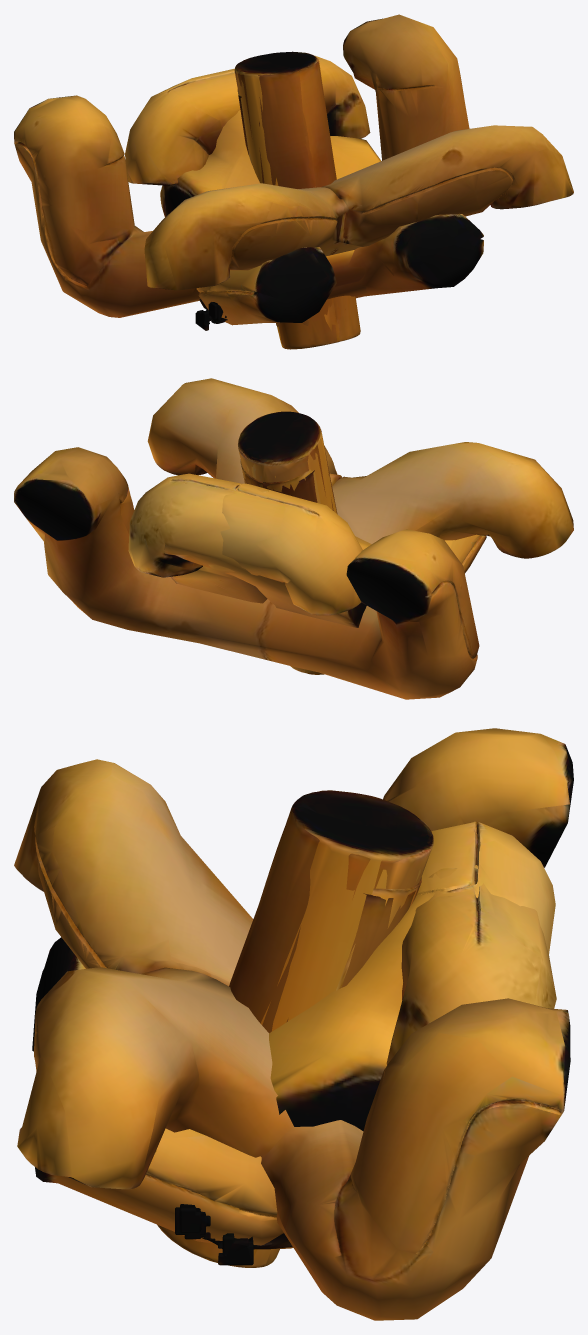
File: NMK.2016.0135.002_143736_optimized.glb
3 views of the same model, one above another, from view 1: azimuth 30°, elevation 25°; view 2: azimuth 150°, elevation 25°; view 3: azimuth 270°, elevation 25° (orthographic). The views are drawn at different scales.
Visible parts, largest first — view 1: root.0.0, root.0.1, root.0.2, root.1, root.2; view 2: root.0.0, root.0.1, root.0.2, root.2, root.1, root.3, root.4; view 3: root.0.0, root.0.2, root.0.1, root.2, root.1, root.4, root.3.
Boxes of the visible parts, x1=… form: root.0.0: x1=14, y1=14, x2=573, y2=317; root.0.1: x1=125, y1=68, x2=380, y2=325; root.0.2: x1=160, y1=55, x2=483, y2=330; root.1: x1=234, y1=51, x2=345, y2=349; root.2: x1=235, y1=55, x2=360, y2=347; root.0.0: x1=14, y1=378, x2=573, y2=699; root.0.1: x1=171, y1=483, x2=486, y2=615; root.0.2: x1=128, y1=473, x2=371, y2=627; root.2: x1=238, y1=413, x2=336, y2=672; root.1: x1=238, y1=411, x2=337, y2=674; root.3: x1=240, y1=459, x2=317, y2=502; root.4: x1=242, y1=469, x2=320, y2=503; root.0.0: x1=14, y1=728, x2=573, y2=1320; root.0.2: x1=35, y1=865, x2=556, y2=1245; root.0.1: x1=32, y1=821, x2=555, y2=1265; root.2: x1=157, y1=790, x2=433, y2=1267; root.1: x1=229, y1=802, x2=433, y2=1266; root.4: x1=341, y1=877, x2=421, y2=987; root.3: x1=336, y1=878, x2=421, y2=990.
Size of the model in its own units: 16393 by 9959 by 11340.
Materials: 1 (1 with a texture image).
